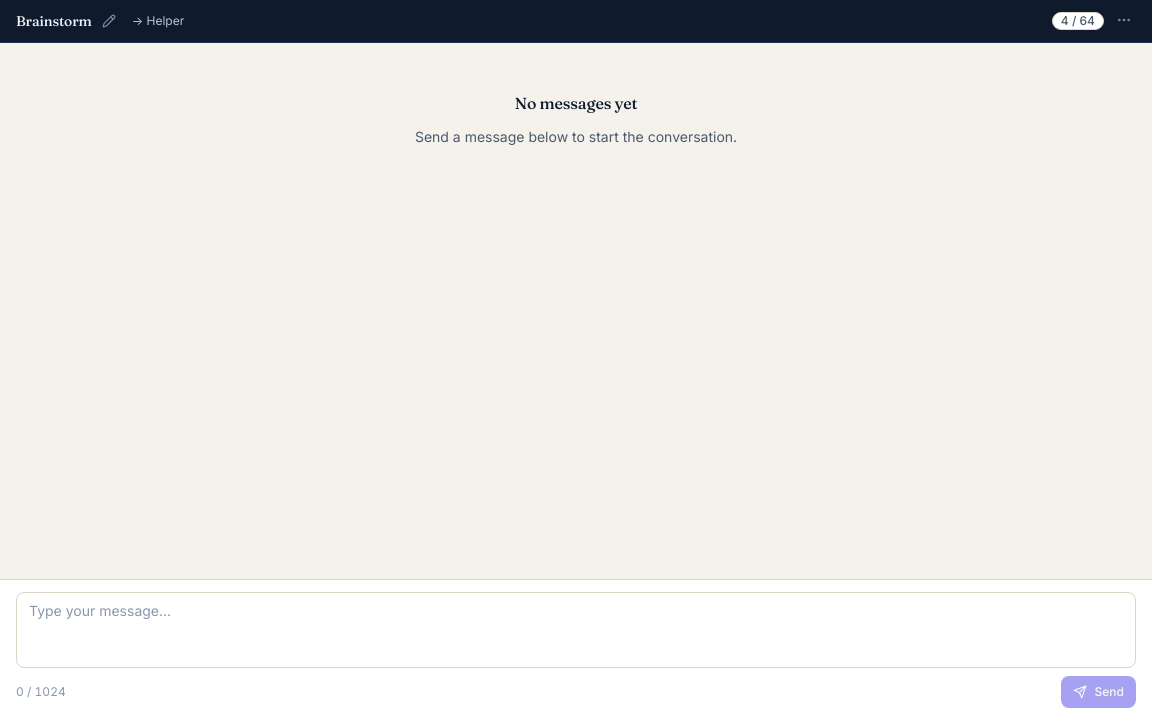
Scenario: ConversationView — SSE wiring › stop while streaming: greys the bubble; NO toast; Send re-appears
Type "hi" into the text box with test id "composer-textarea". click: (576, 630)
box: [16,592,1136,668]
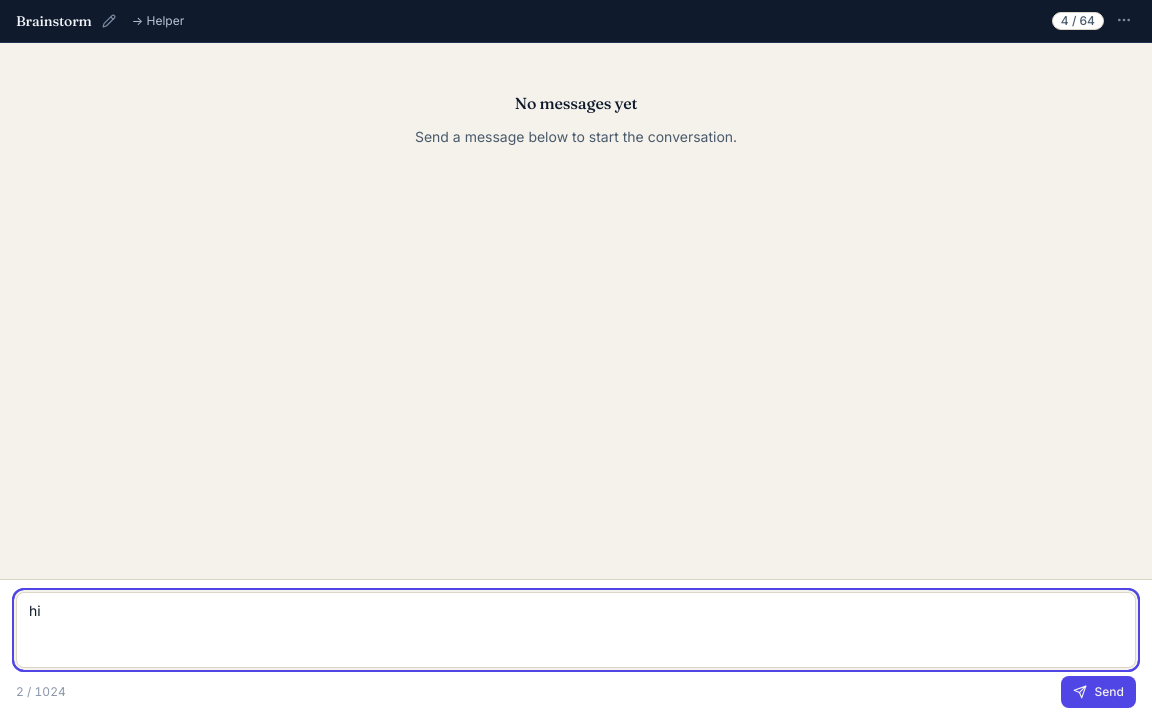
Type keys "{Control>}{Enter}{/Control}"
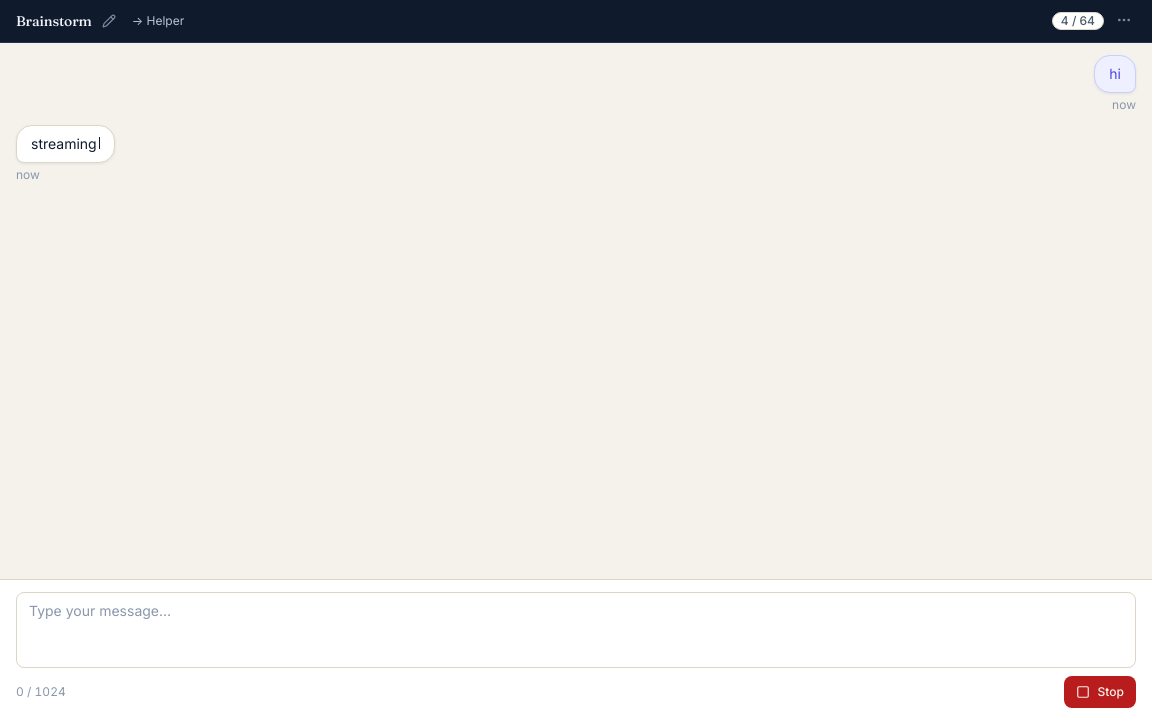
// Stop button appears while streaming.
Click the button with test id "composer-stop". click: (1100, 692)
box: [1064,676,1136,708]
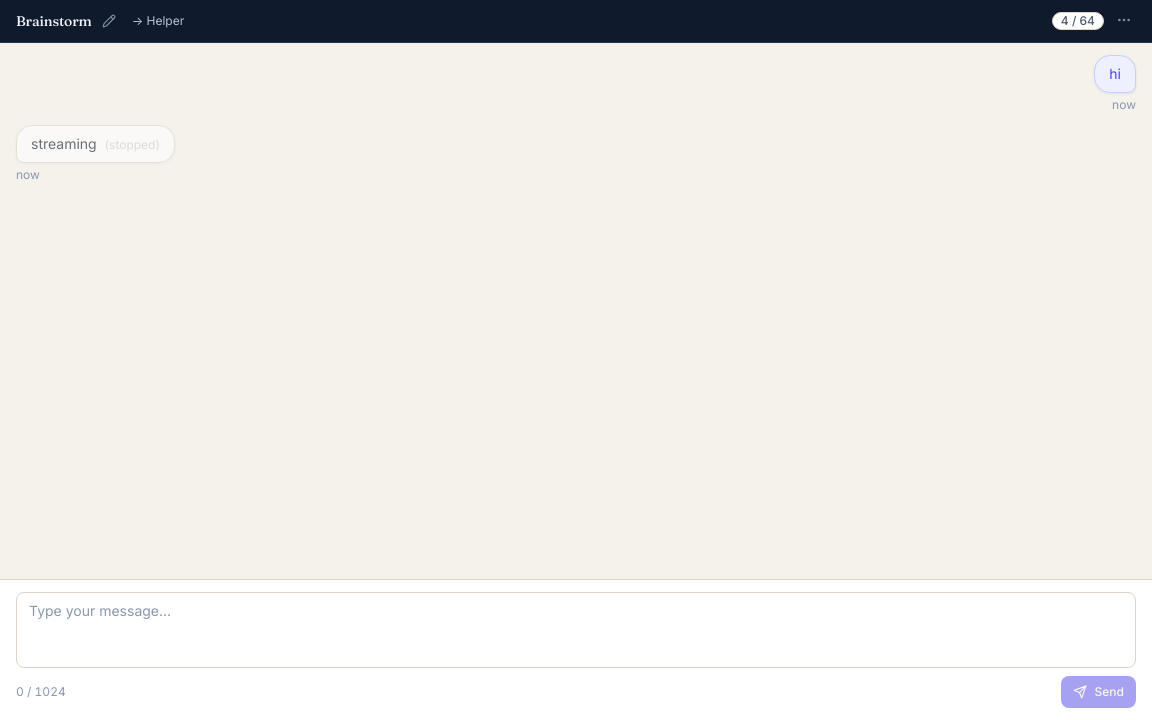
Check: the button with test id "composer-send" is shown, box [1061,676,1136,708]
Check: the text "(stopped)" is shown, box [105,137,160,152]
